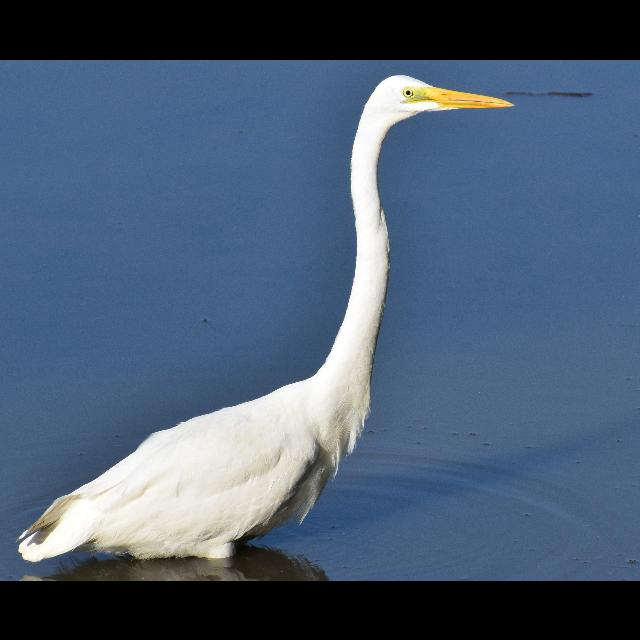egret: (16, 69, 518, 571)
